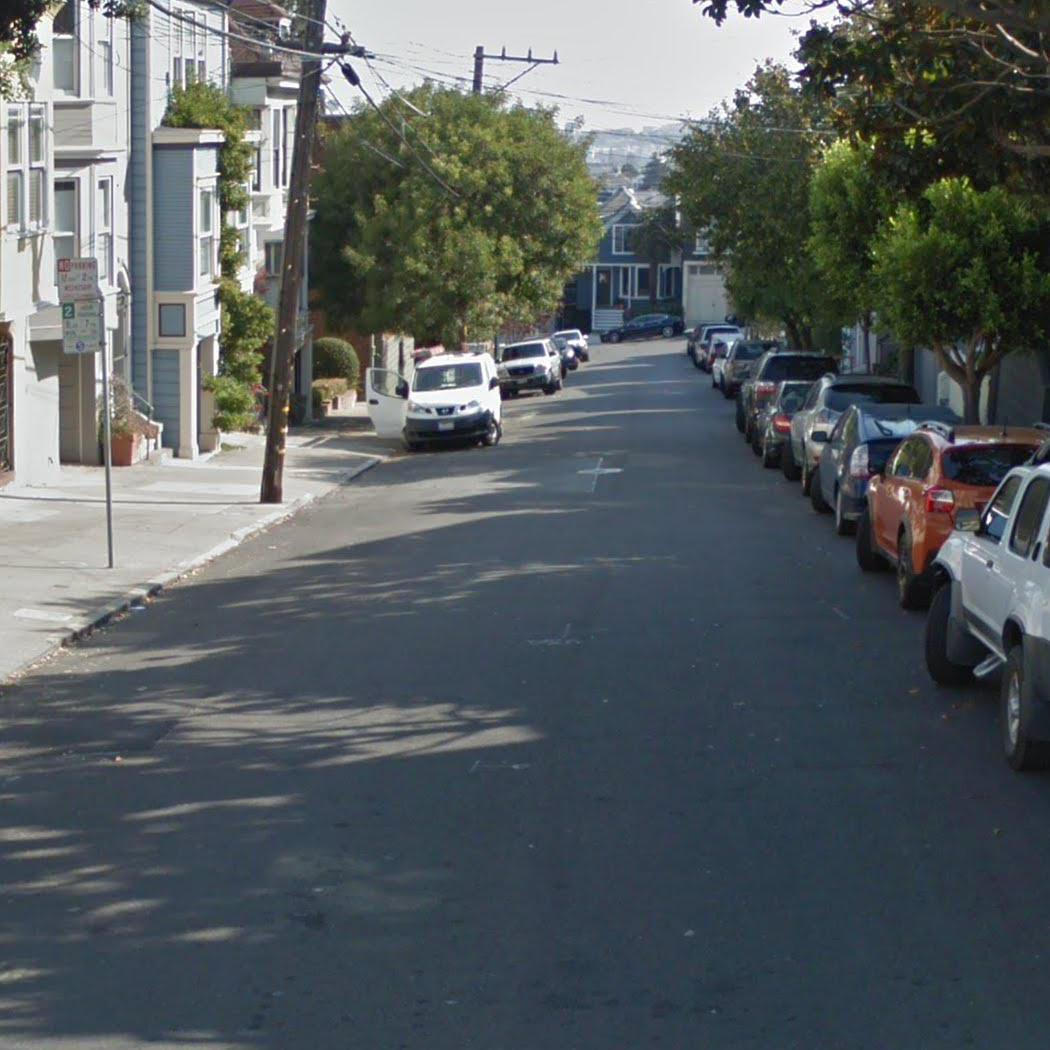2 Hour Parking: (59, 300, 109, 357)
No Parking: (53, 257, 101, 309)
